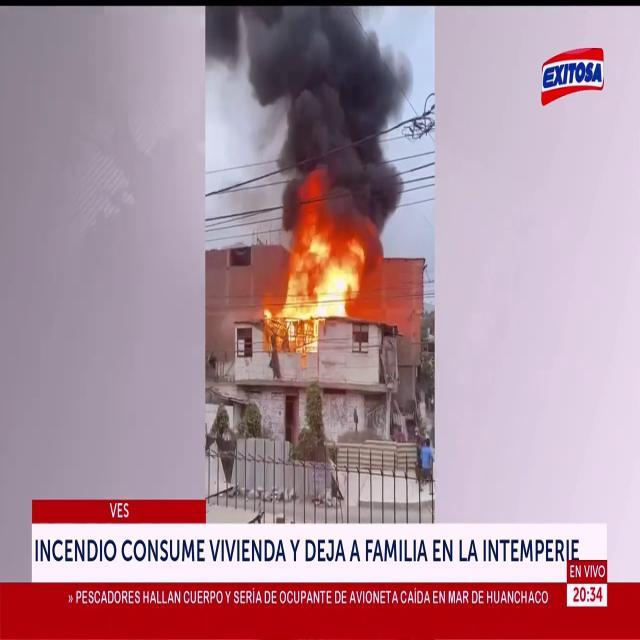Fire: (263, 187, 377, 349)
Smoke: (217, 4, 417, 228)
